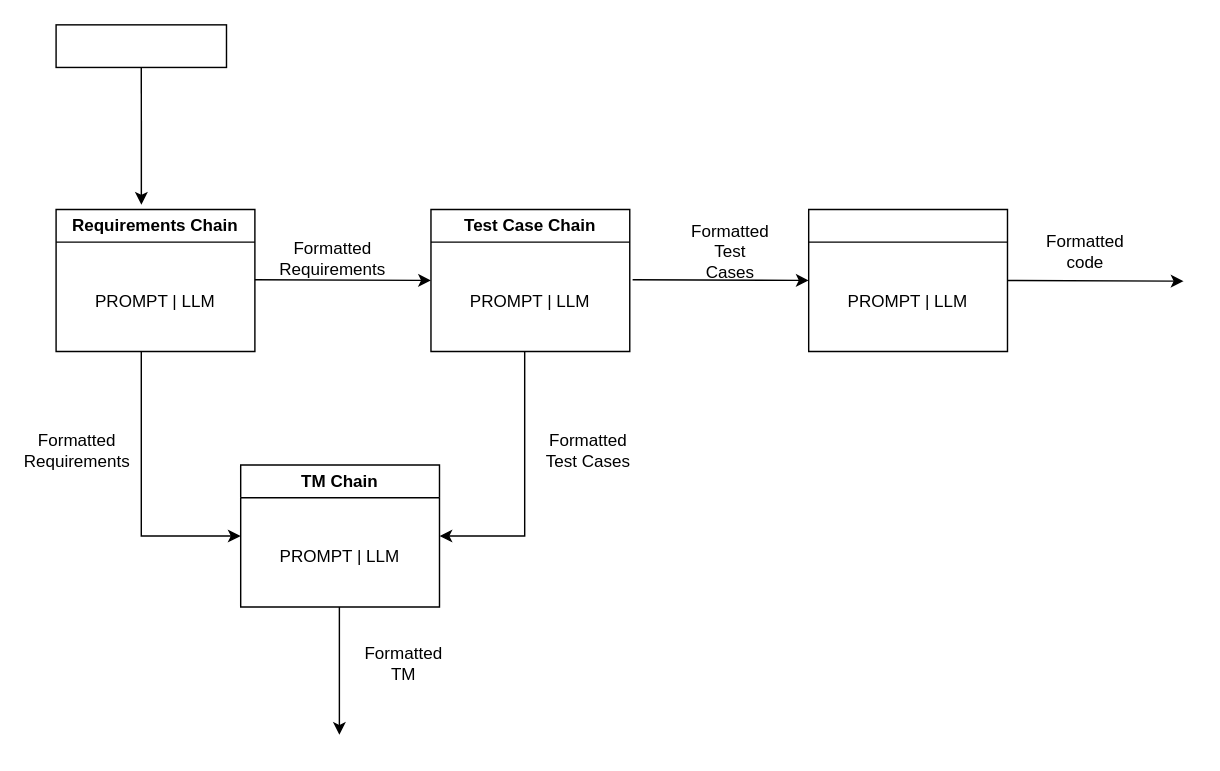
This 1220x771 diagram has some shape labels left out. Each missing label, with the box of its shape:
Code Chain: (807, 208, 1007, 351)
Raw Requirements: (55, 23, 226, 67)
